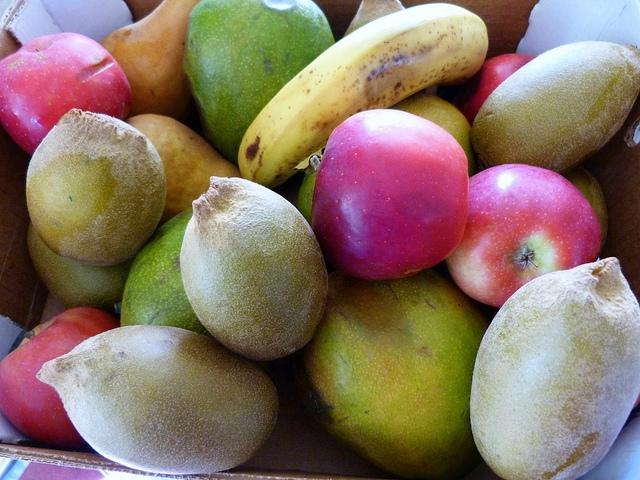apple: (294, 109, 470, 280), (446, 163, 602, 308), (0, 307, 121, 448), (1, 32, 132, 157), (448, 54, 537, 128)
banana: (238, 2, 489, 188)
pear: (292, 260, 490, 480), (184, 0, 336, 170), (125, 113, 242, 228), (101, 0, 202, 123), (120, 206, 212, 338), (388, 92, 482, 178), (562, 166, 608, 258), (298, 169, 318, 224)
